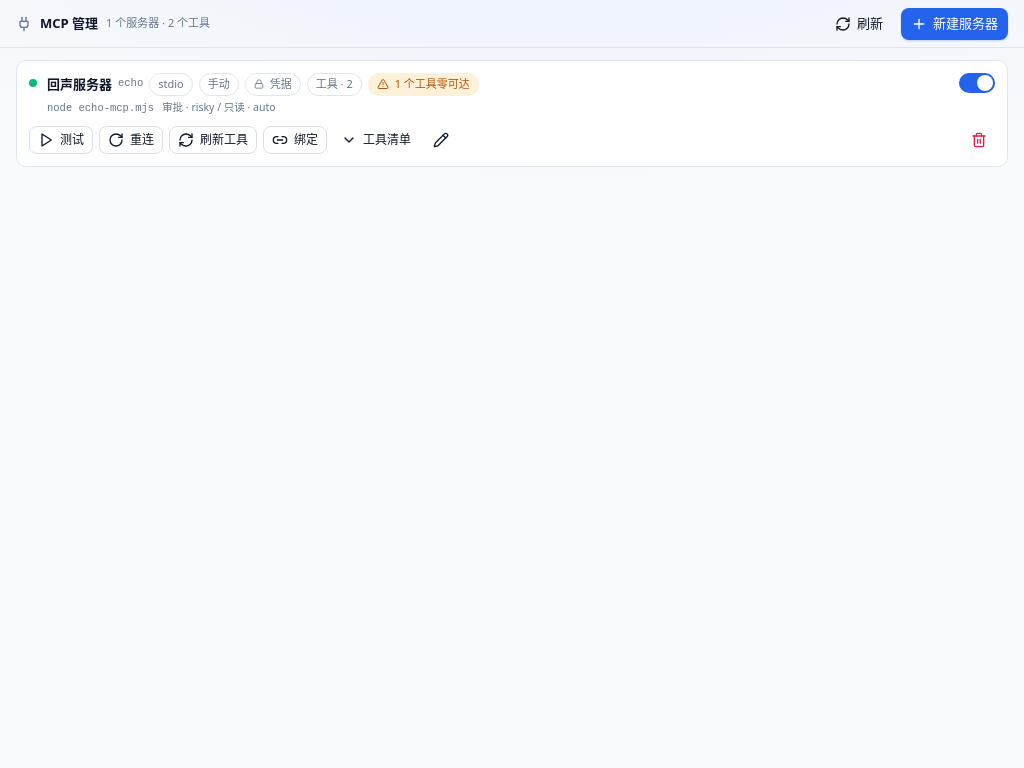
M27：McpConsole › 「新建服务器」打开编辑器（标题为新建态）
The image size is (1024, 768).
Step 1. Click the button "新建服务器" → click(954, 24), box left=901, top=8, right=1008, bottom=40
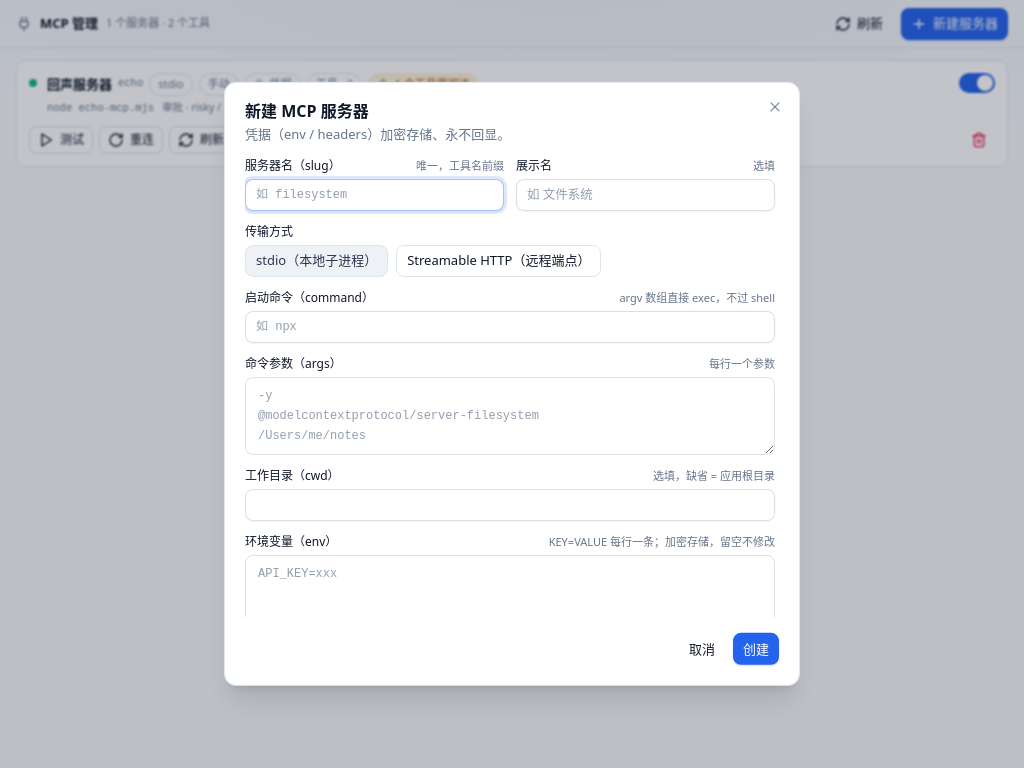
expect the heading "新建 MCP 服务器" is shown: met, box left=245, top=100, right=369, bottom=122
expect the field named "服务器名" is shown: met, box left=245, top=178, right=504, bottom=210
